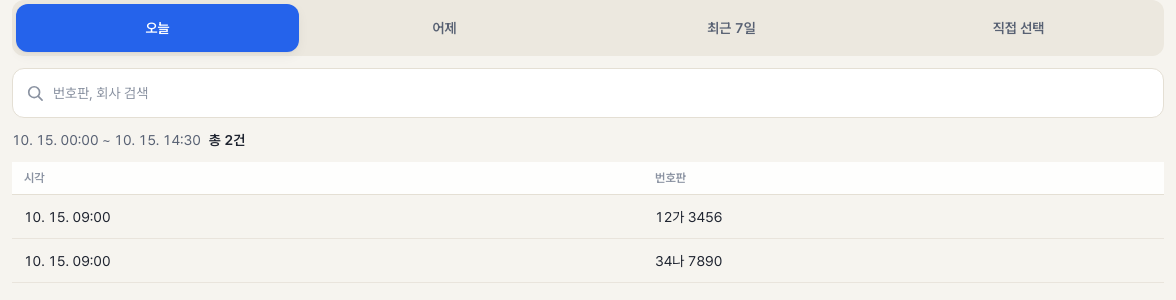
Test: RecordList 검색 › X 버튼은 입력을 비우고 기다리지 않고 바로 전체를 다시 받는다
Expected: the text "총 2건" is shown, [209,130,245,150]
Type "56다" into the search field.
click(604, 93); type("56다")  # box [45,69,1163,117]
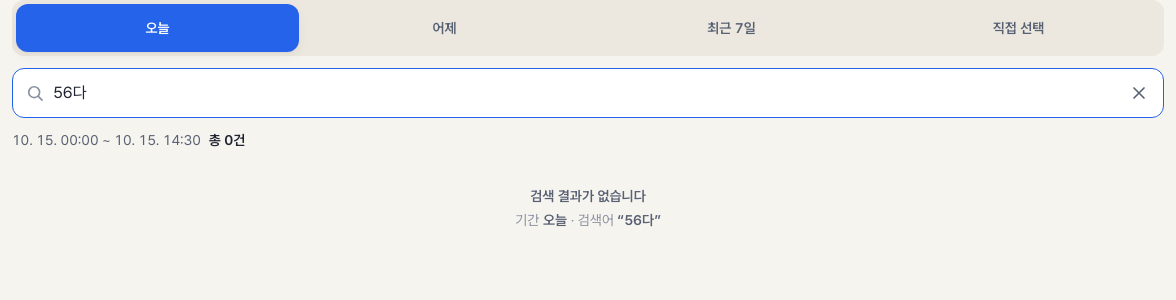
Now the text "검색 결과가 없습니다" is shown, box [530,186,646,206]
Click the button named "검색어 지우기".
click(1139, 93)  # box [1115,69,1163,117]
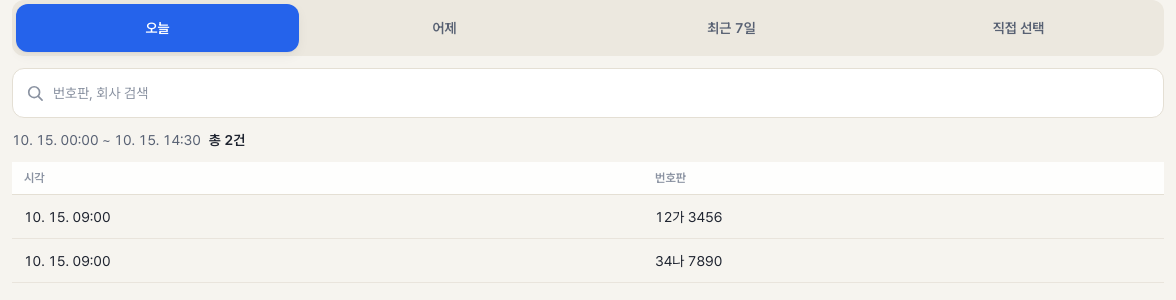
Now the search field is empty, box [45,69,1163,117]
Now the text "총 2건" is shown, box [209,130,245,150]
